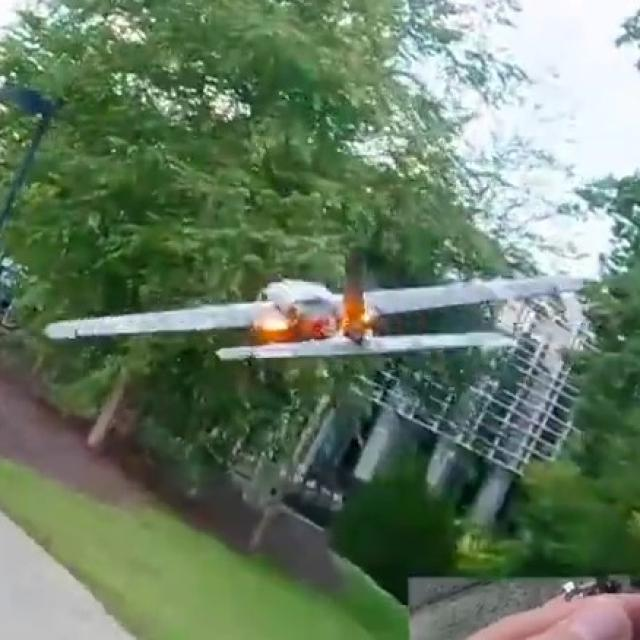iha: (44, 301, 596, 339)
